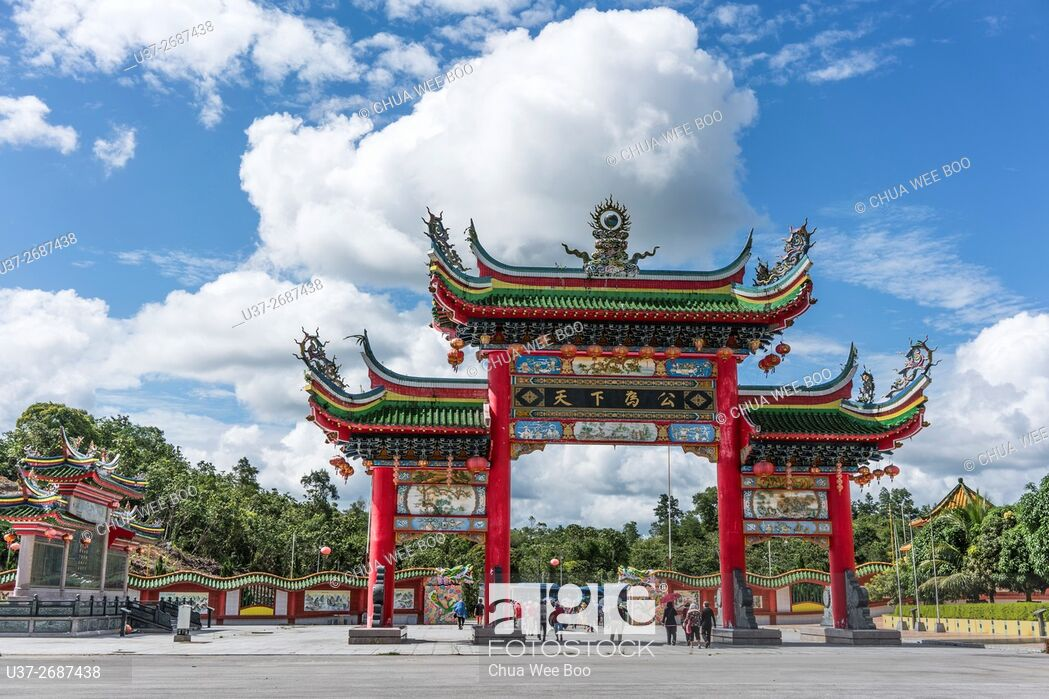Buddhist Temple: (317, 199, 930, 620)
